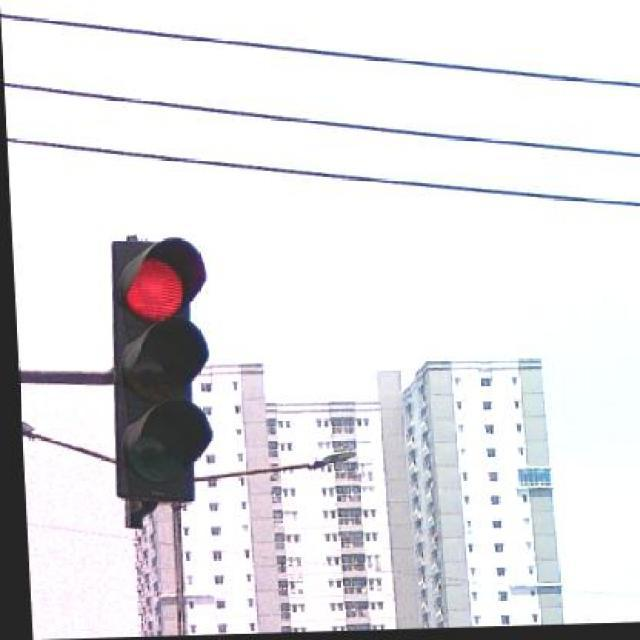traffic light: (112, 238, 213, 505)
